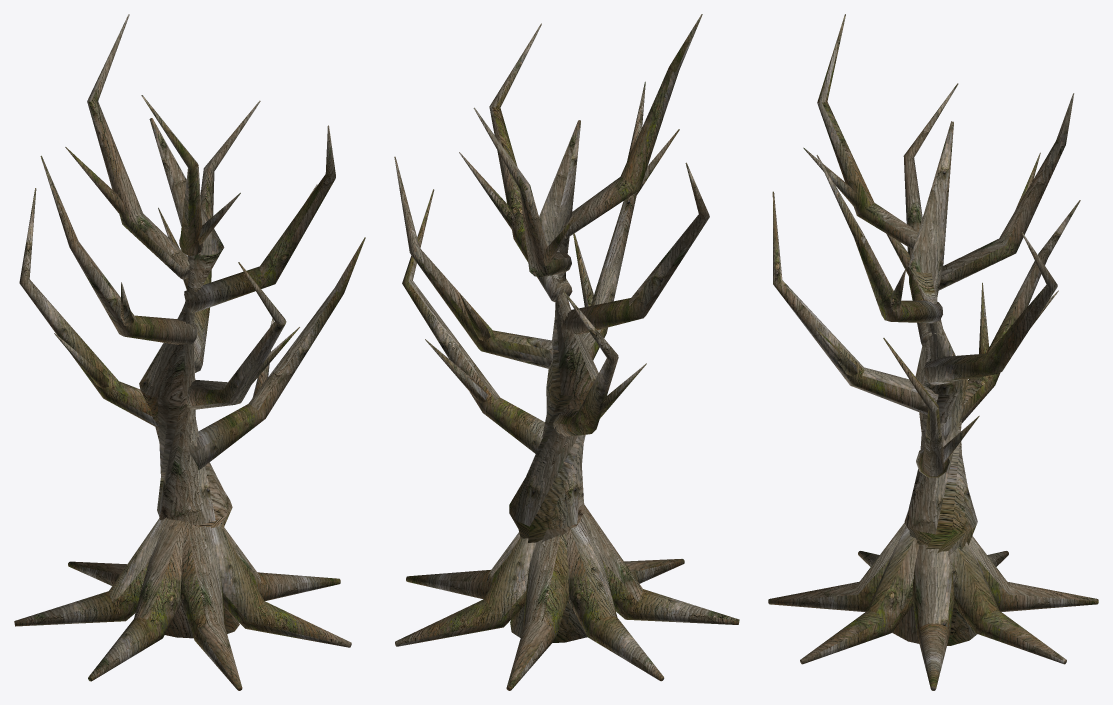
Rendered from ancient_tree_0.glb.
The picture shows the model from 3 angles, left to right: view 1: azimuth 30°, elevation 25°; view 2: azimuth 150°, elevation 25°; view 3: azimuth 270°, elevation 25°; orthographic projection. The views are drawn at different scales.
Parts seen in each view (by area): view 1: Ancient trunk; view 2: Ancient trunk; view 3: Ancient trunk.
Boxes of the visible parts, x1,y1,x2,y2 form: Ancient trunk: (14,14,365,690); Ancient trunk: (394,14,739,690); Ancient trunk: (768,14,1098,690).
Bounding box in the file's own units: 4.26 × 8.19 × 4.31.
1 material, 1 textured.
